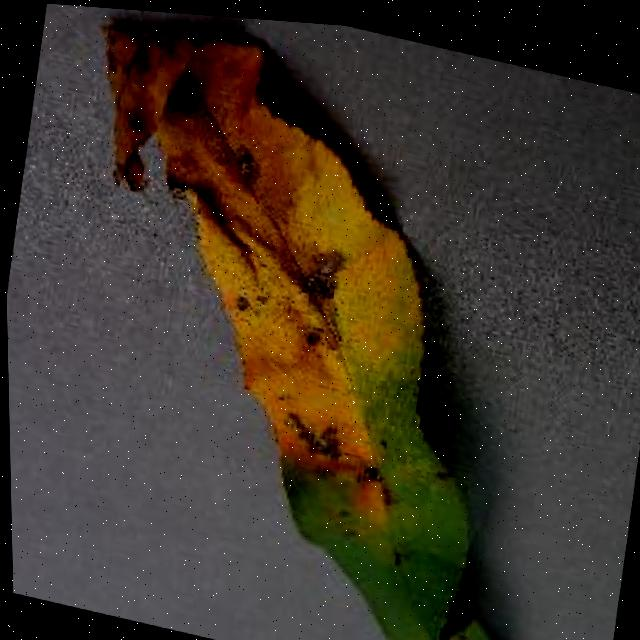Bacterial_spot: (256, 380, 444, 524), (282, 231, 378, 367), (212, 130, 283, 202), (217, 270, 275, 339)
